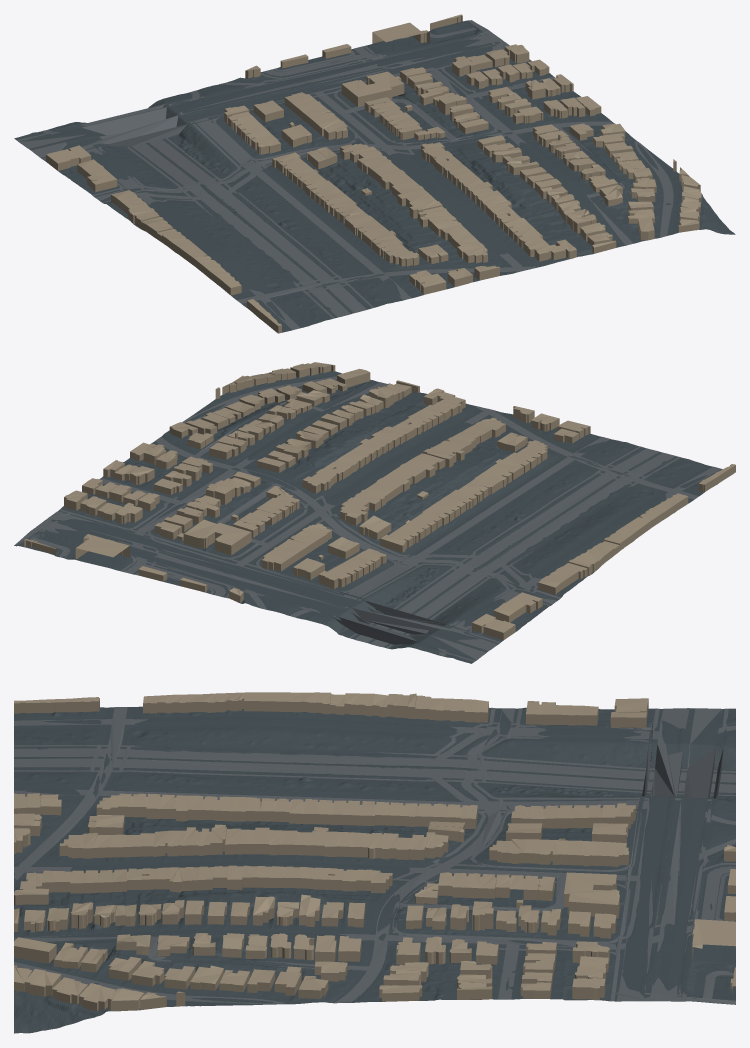
File: epsg26910-1418-10876.lod0.glb
3 views of the same model, one above another, from view 1: azimuth 30°, elevation 25°; view 2: azimuth 150°, elevation 25°; view 3: azimuth 270°, elevation 25° (orthographic). The views are drawn at different scales.
Visible parts, largest first — view 1: epsg26910-1418-10876-lod0; view 2: epsg26910-1418-10876-lod0; view 3: epsg26910-1418-10876-lod0.
Boxes of the visible parts, x1,y1,x2,y2 form: epsg26910-1418-10876-lod0: (14, 14, 735, 333); epsg26910-1418-10876-lod0: (14, 362, 735, 663); epsg26910-1418-10876-lod0: (14, 692, 735, 1033).
Bounding box in the file's own units: 384 × 30.16 × 384.
